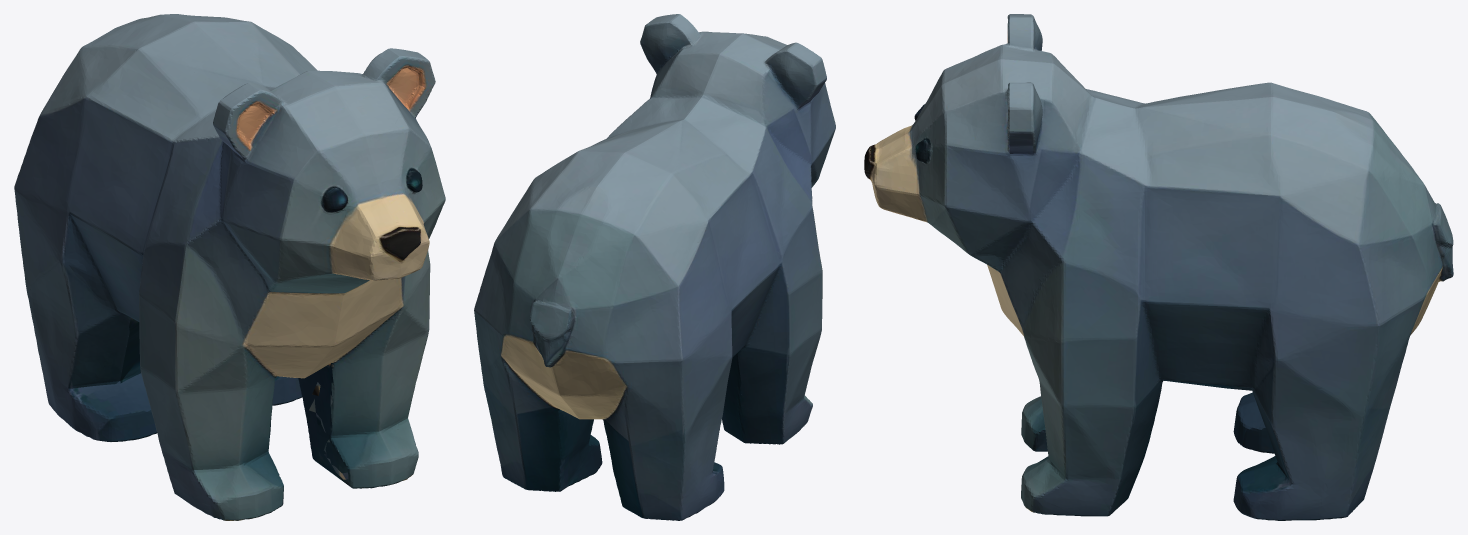
Rendered from bear_1772491865173.glb.
3 views of the same model, side by side, from view 1: azimuth 30°, elevation 25°; view 2: azimuth 150°, elevation 25°; view 3: azimuth 270°, elevation 25° (orthographic). The views are drawn at different scales.
Visible parts, largest first — view 1: demo_textured.obj; view 2: demo_textured.obj; view 3: demo_textured.obj.
Part boxes in pixels (left/top/right/bottom): demo_textured.obj: left=14, top=14, right=445, bottom=520; demo_textured.obj: left=474, top=14, right=835, bottom=520; demo_textured.obj: left=864, top=14, right=1453, bottom=520.
Bounding box in the file's own units: 0.9836 × 1.56 × 1.99.
1 material, 1 textured.
